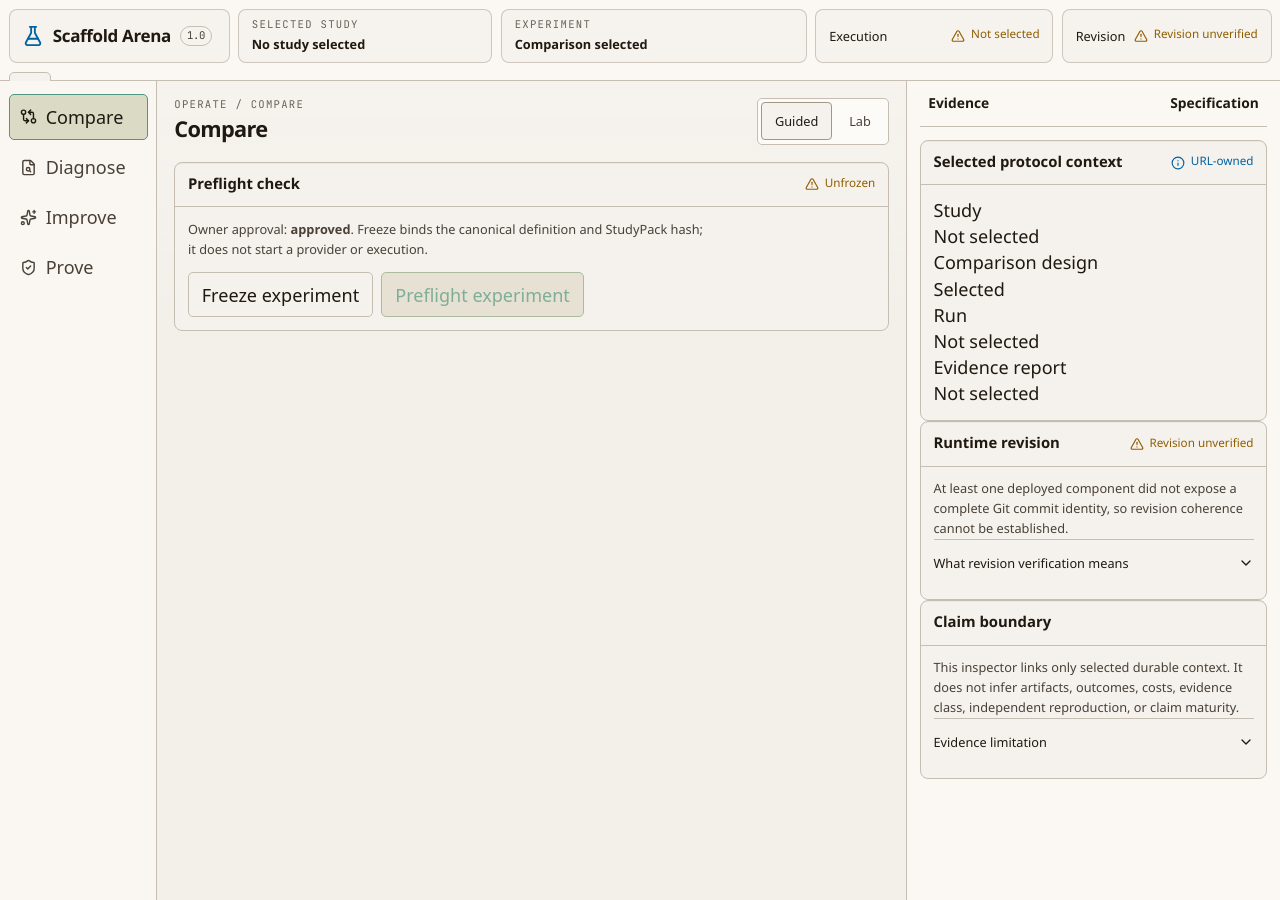
Test: WorkbenchV1App team project selection › promotes the shell label only after freeze reload returns frozen_at
Step 1. Click the button "Freeze experiment" → (280,295), box left=188, top=272, right=373, bottom=317
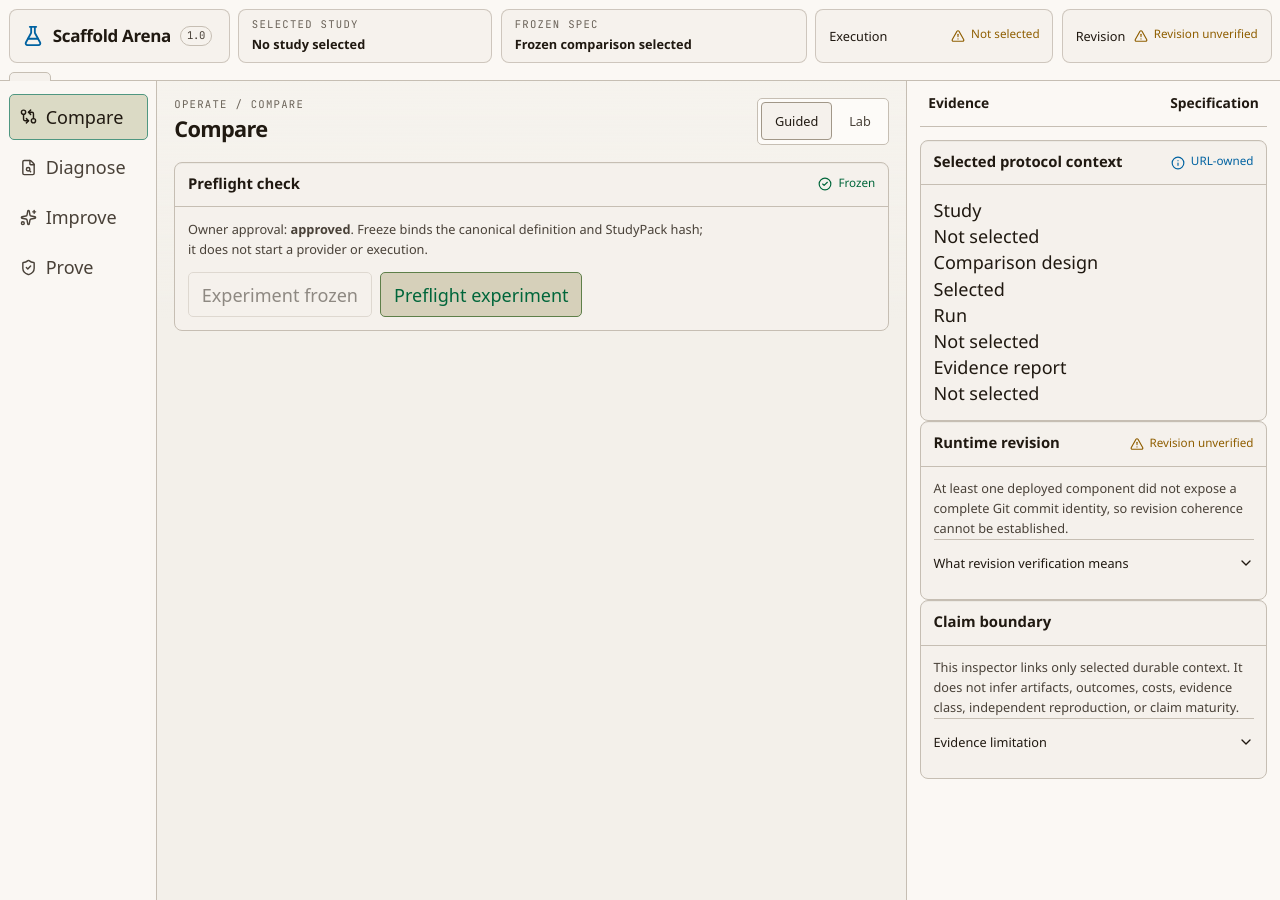
expect the text "Frozen comparison selected" is shown: met, box left=515, top=35, right=692, bottom=53
expect the text "Frozen spec" is shown: met, box left=515, top=18, right=599, bottom=32
